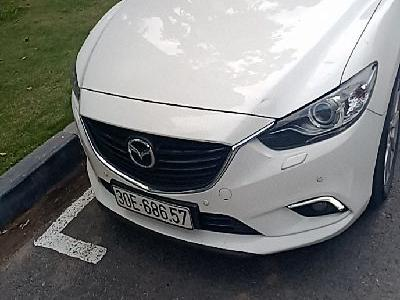car: (112, 187, 194, 230)
